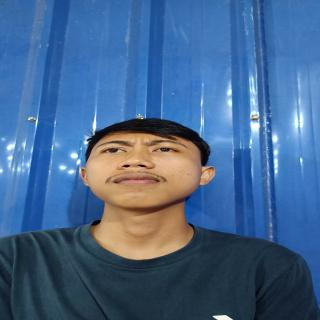Marah: (81, 129, 206, 214)
